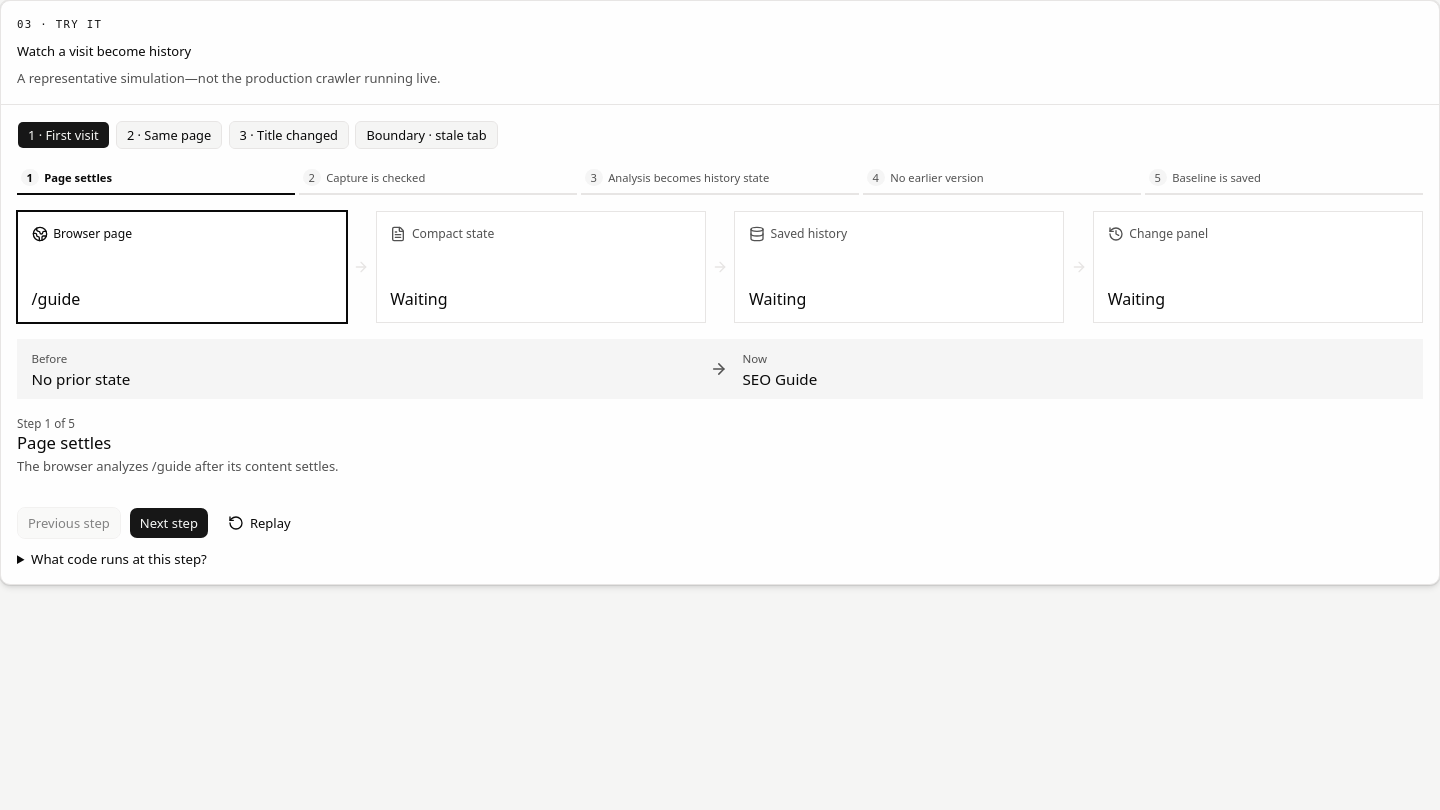
Scenario: PageChangeHistory › shows the skipped revisit and stale-generation boundary
The width and height of the screenshot is (1440, 810).
Click the button "2 · Same page": (169, 135) [116,121,222,149]
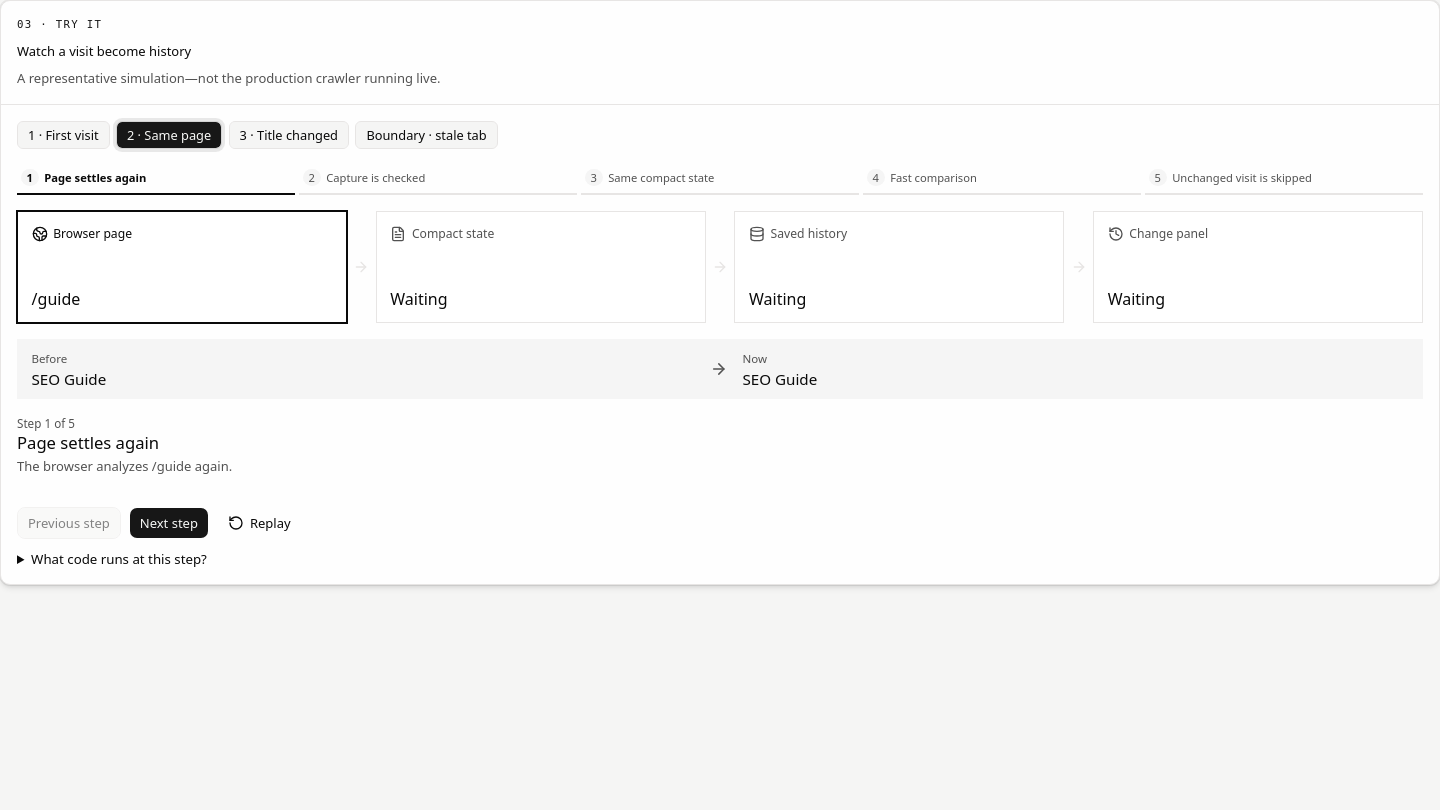
Click the button "5 Unchanged visit is skipped": (1284, 178) [1145,162,1423,195]
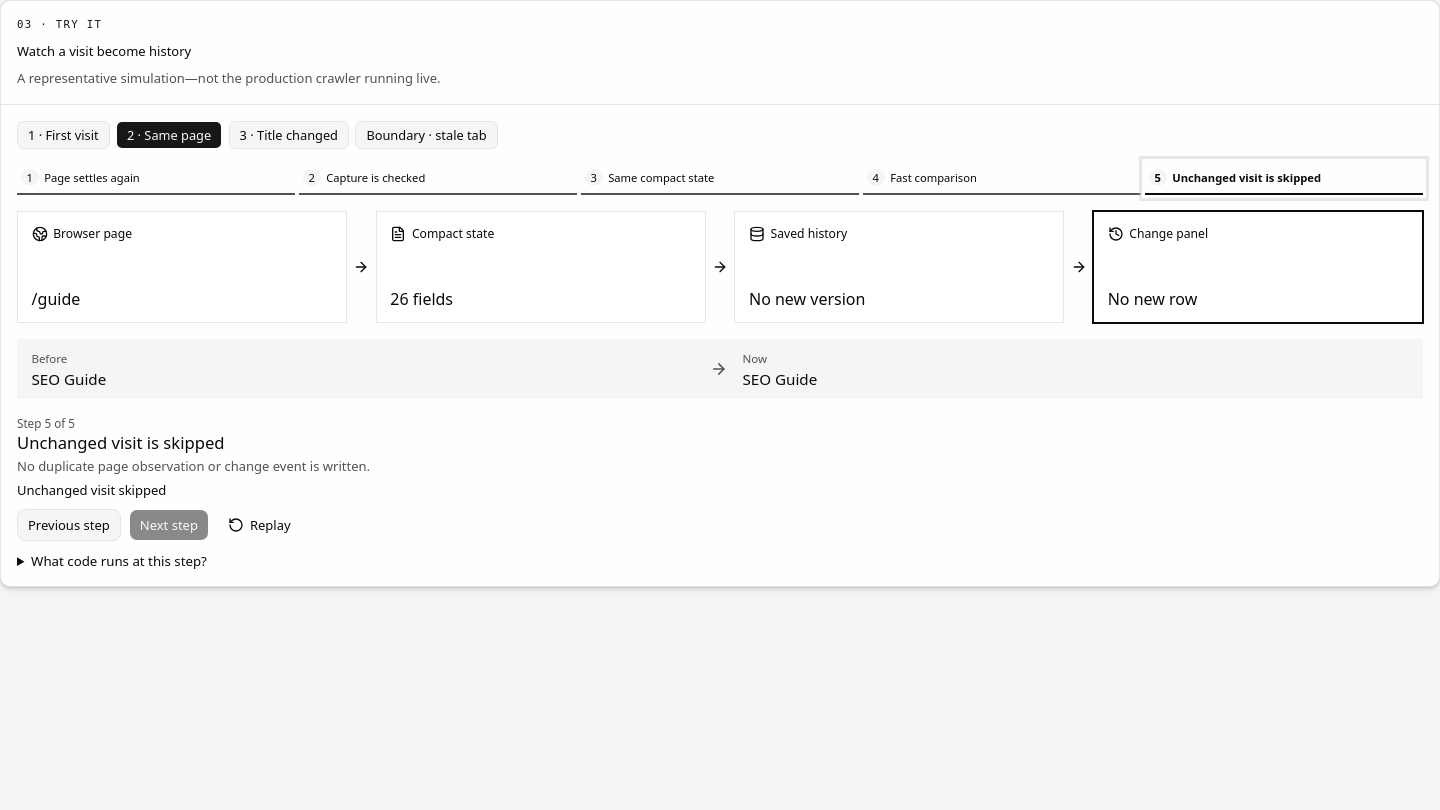
Expected: the text "Unchanged visit skipped" is shown, [17,481,166,499]
Click the button "Boundary · stale tab": (427, 135) [355,121,498,149]
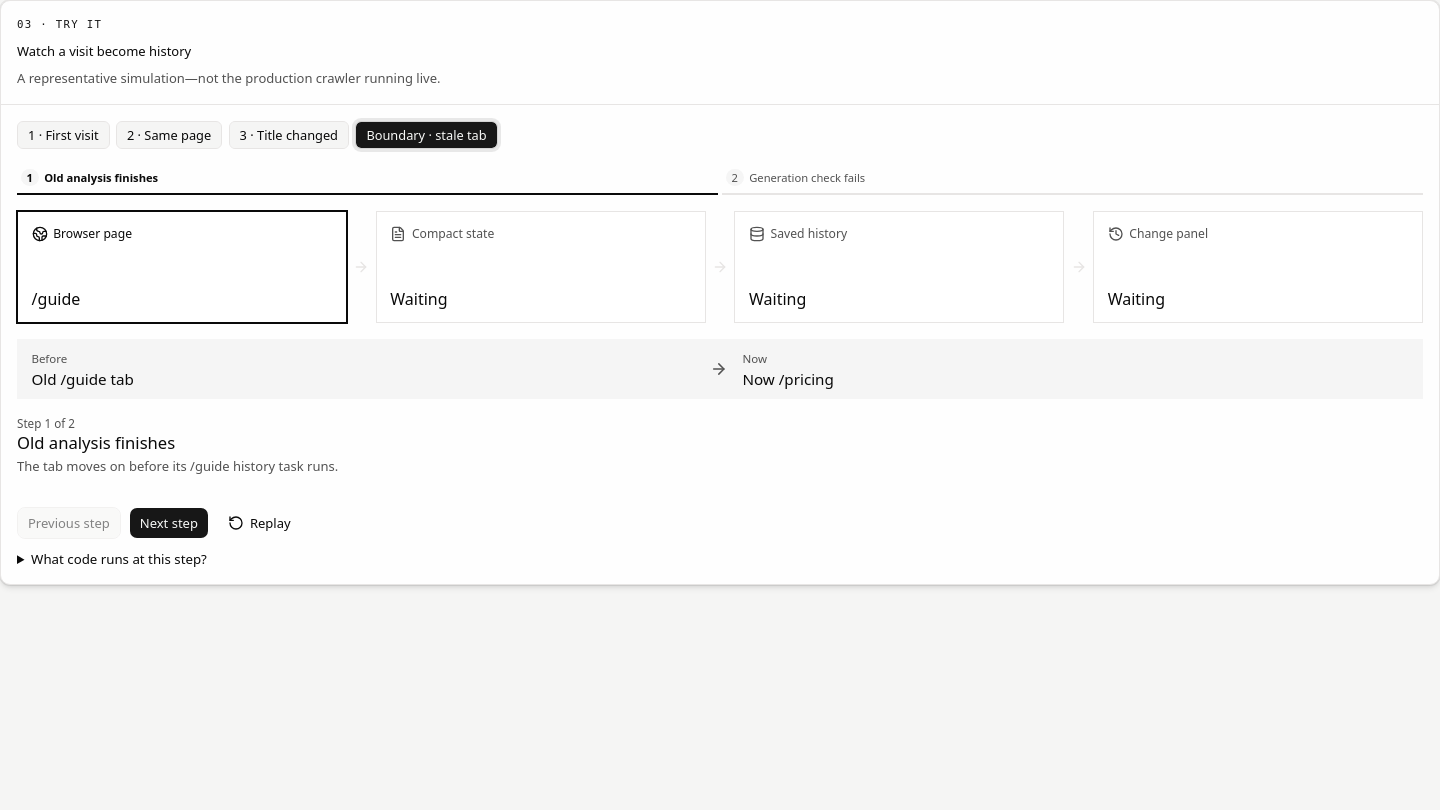
Click the button "Next step": (169, 523) [129,507,209,539]
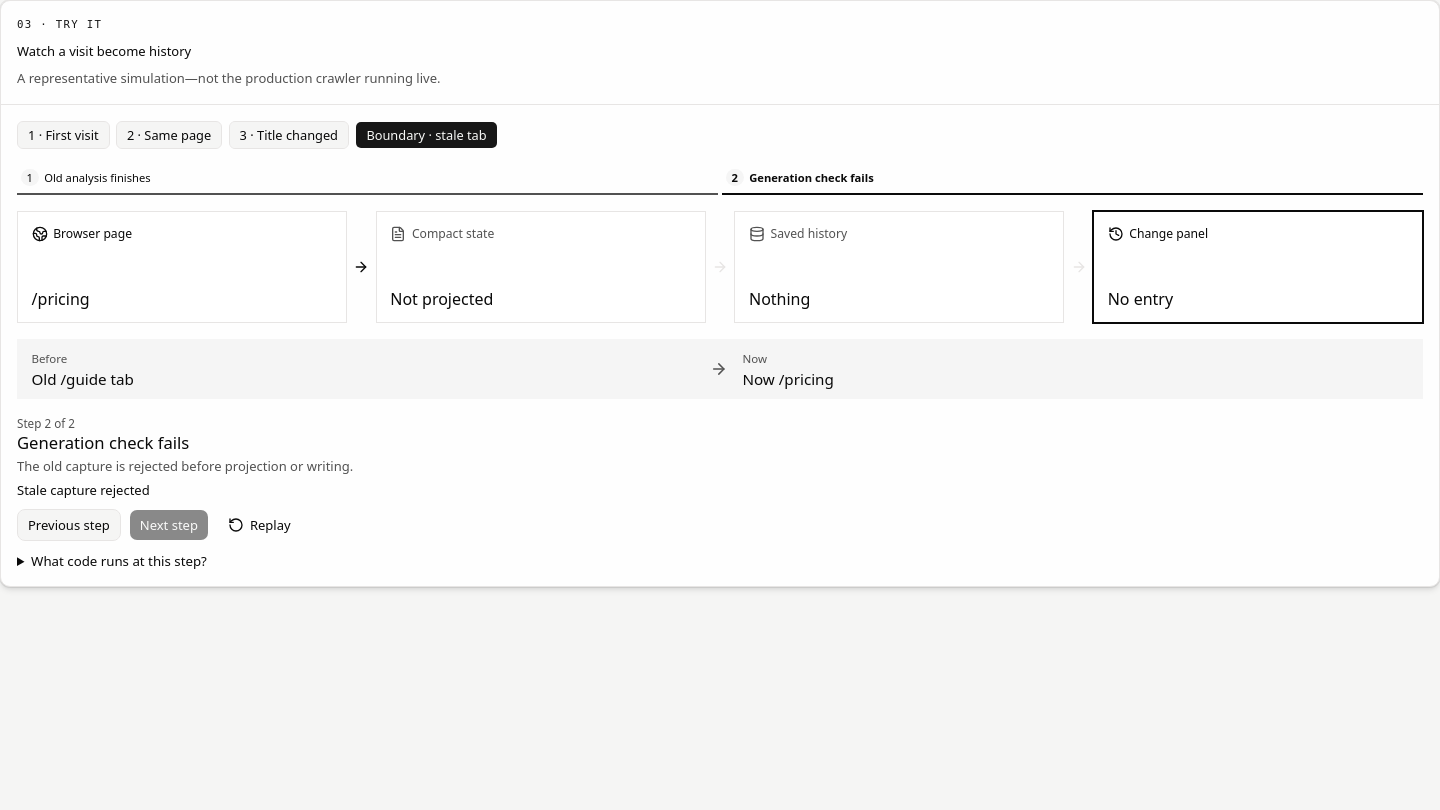
Expected: the text "Stale capture rejected" is shown, [17,481,150,499]
